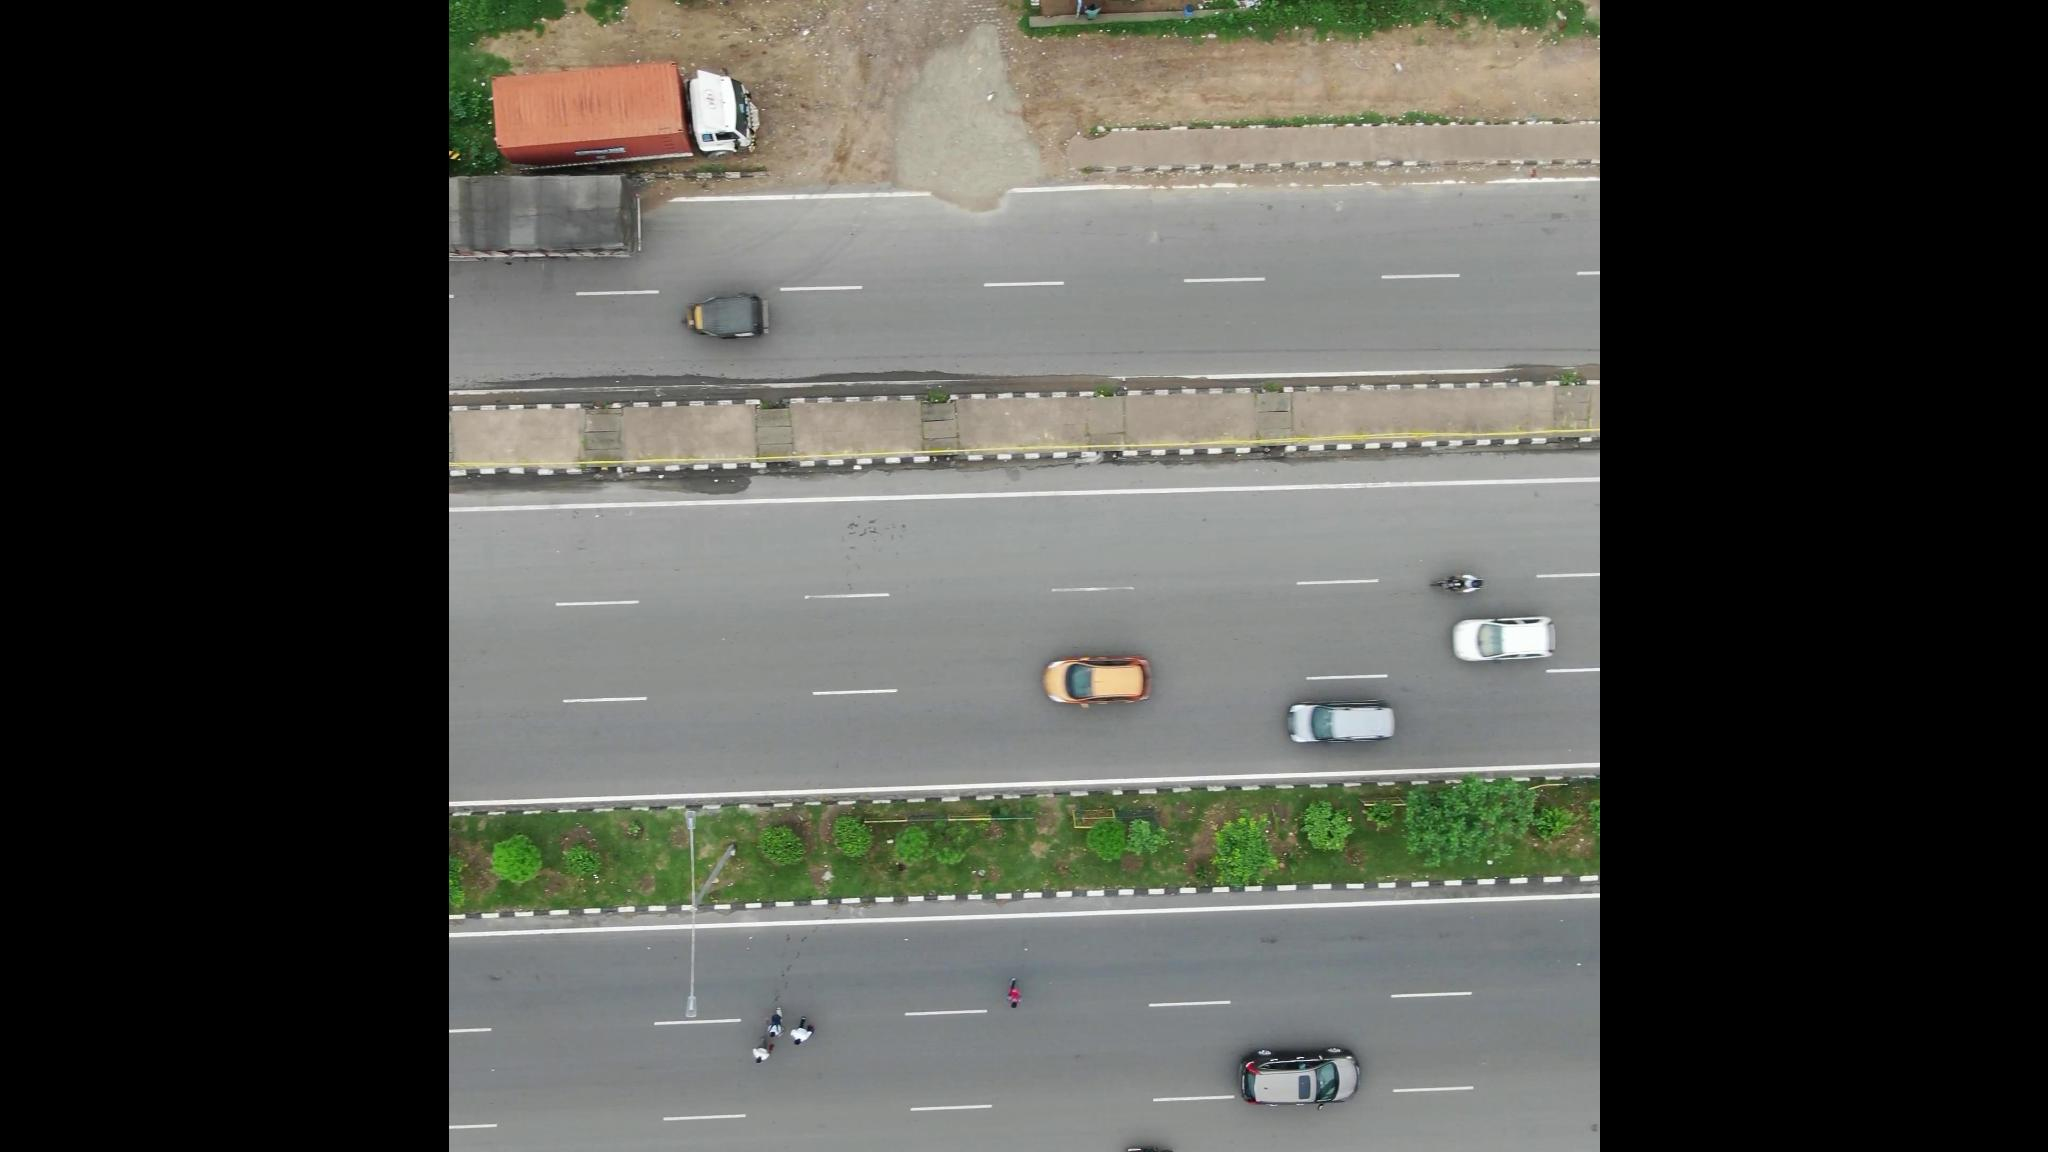Cracks: (881, 149, 1030, 236)
Muddy_road: (1270, 156, 1471, 198), (1080, 162, 1241, 201)
